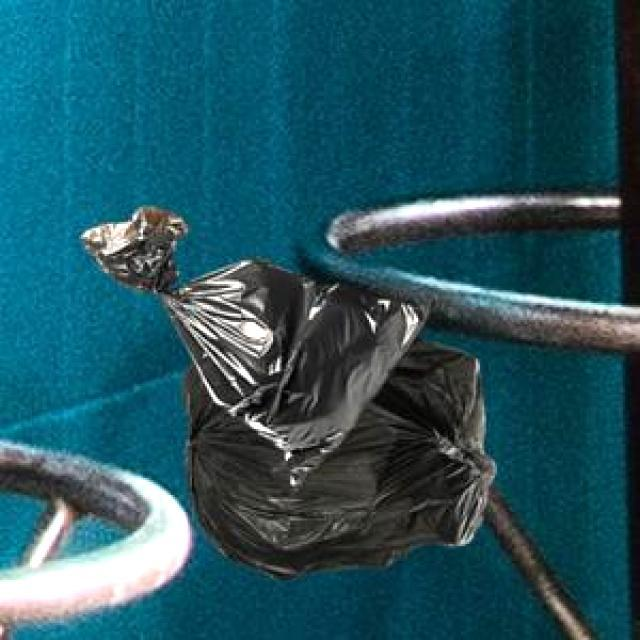Garbage_Bag: (78, 204, 434, 492), (178, 336, 492, 577)
